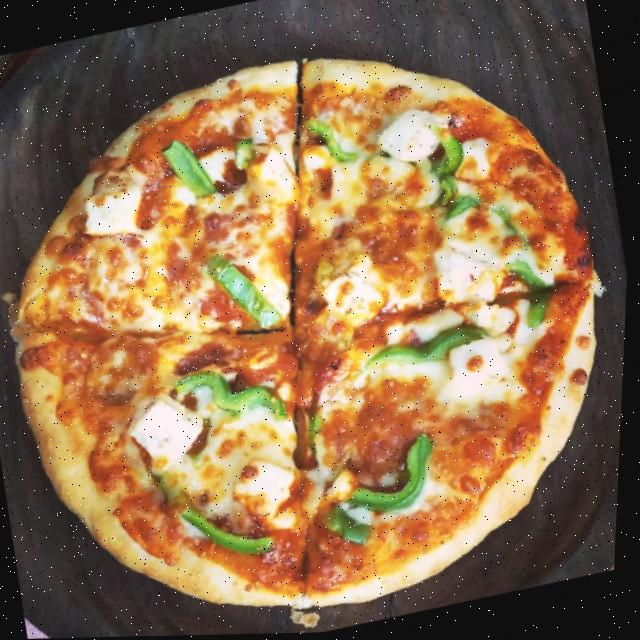pizza: (0, 3, 640, 640)
